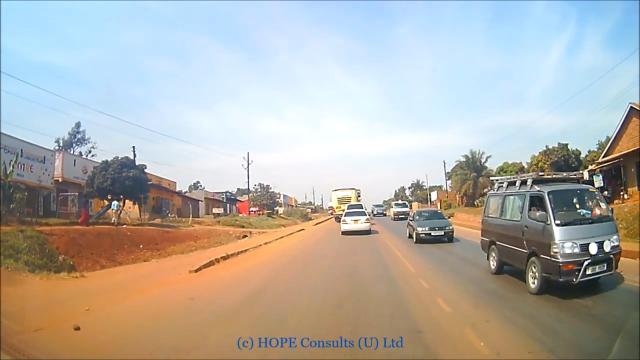car: (404, 205, 456, 243), (338, 209, 375, 234), (387, 199, 412, 221), (370, 202, 389, 217), (346, 199, 364, 211)
van: (486, 181, 623, 279)
